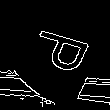P_E: (17, 29, 93, 81)
